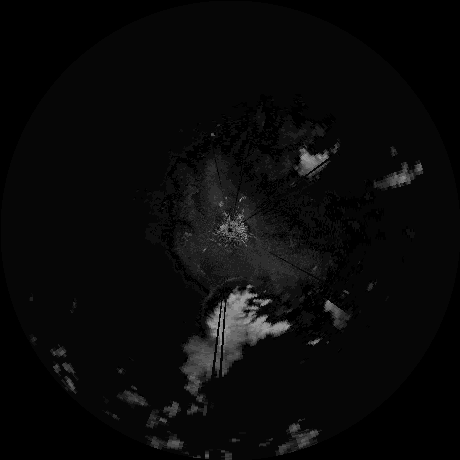frontgust: (198, 276, 244, 313)
